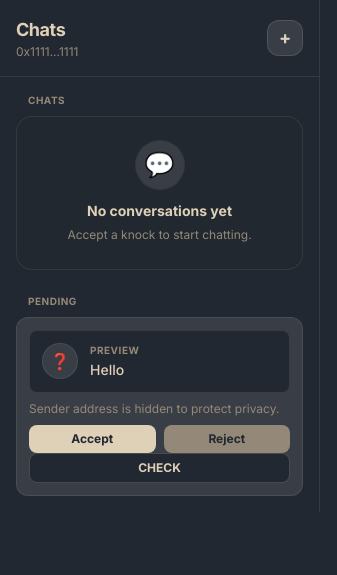
Scenario: Sidebar pending CHECK button › displays an error message when the ML check fails
Click the button "CHECK" at (160, 468), box [29,452,290,482]
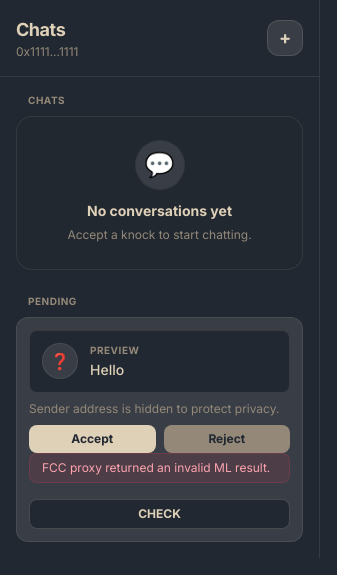
Expected: the text "FCC proxy returned an invalid ML result." is shown, [29,452,290,482]
